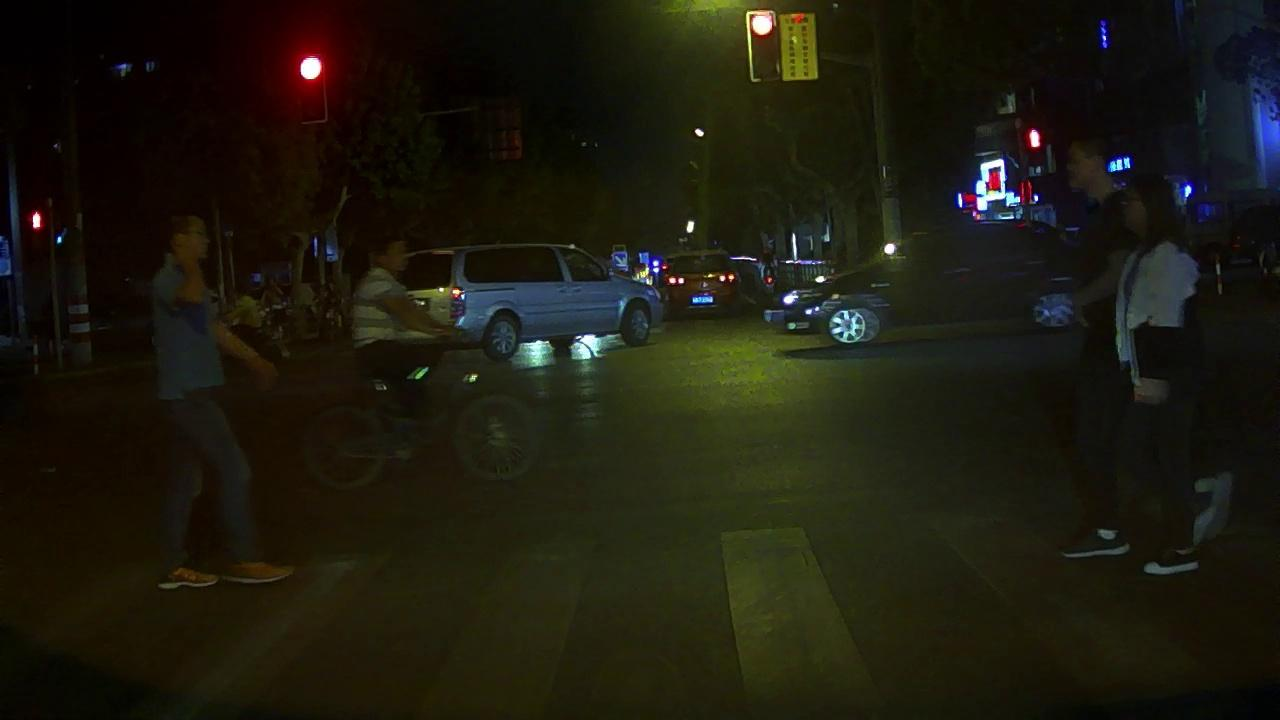traffic_light: (749, 11, 779, 79), (293, 52, 323, 114)
